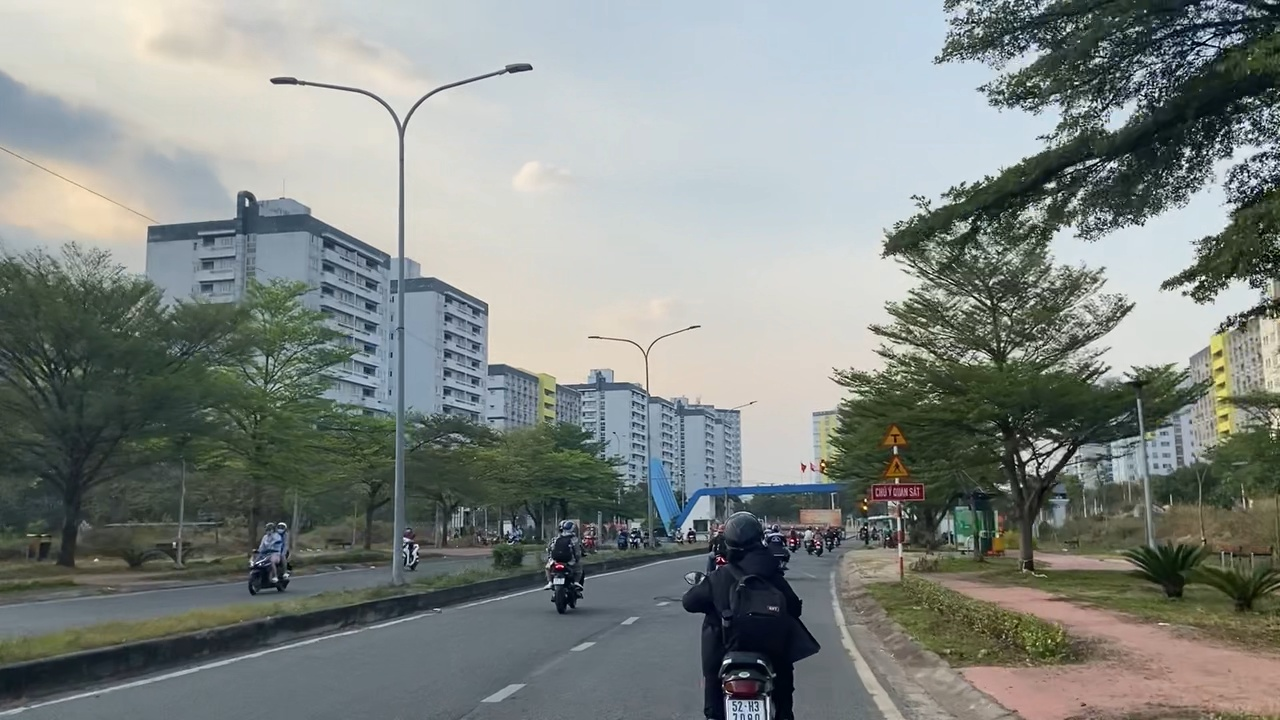can_than_nguoi_qua_duong: (882, 454, 910, 478)
giao_nhau_T: (880, 422, 909, 448)
